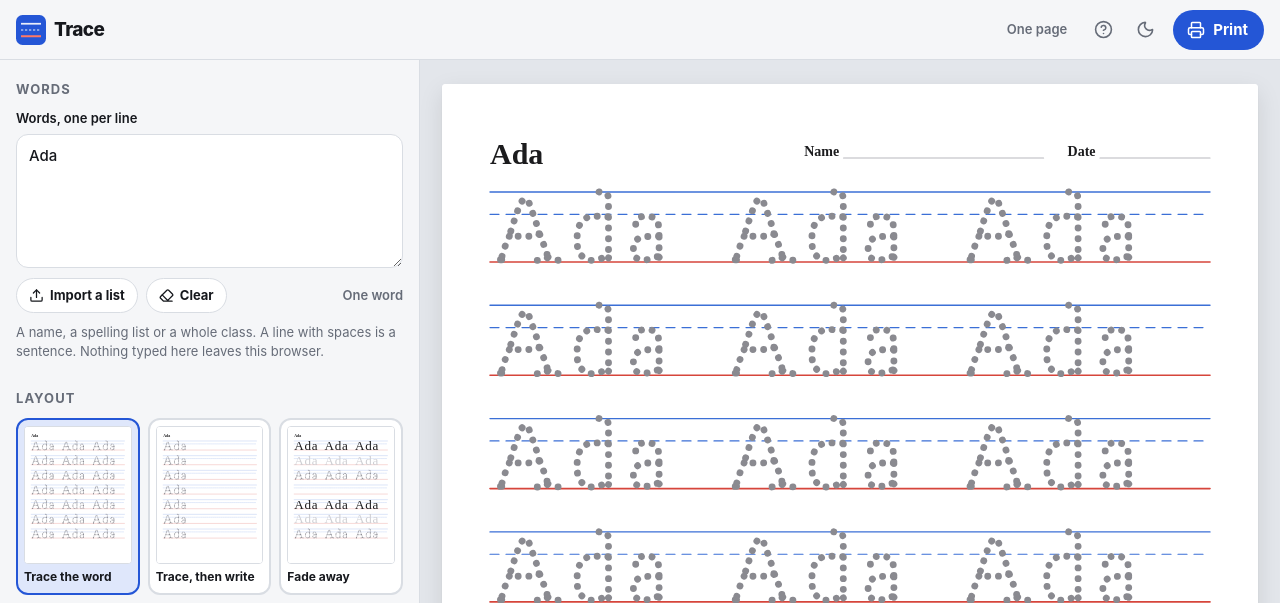
Scenario: help › opens and closes the sheet
Click the button named "How it works" at (1103,30), box [1083,10,1123,50]
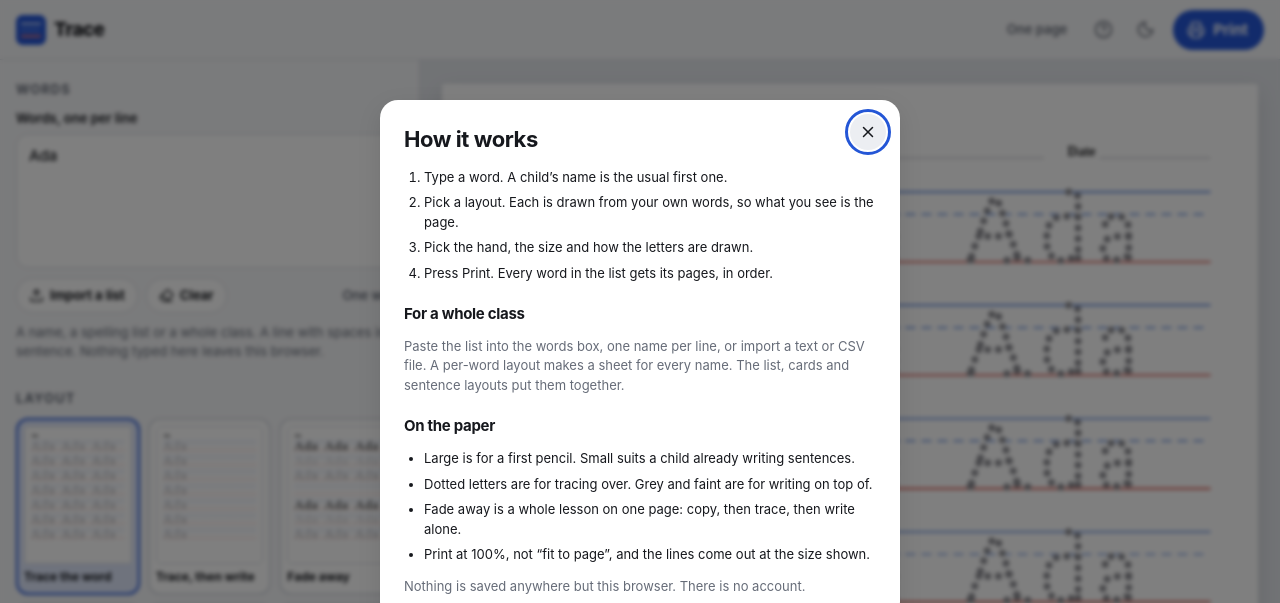
Result: the heading "How it works" is shown at [404,126,538,152]
Click the button named "Close" at (868,132), box [850,114,886,150]
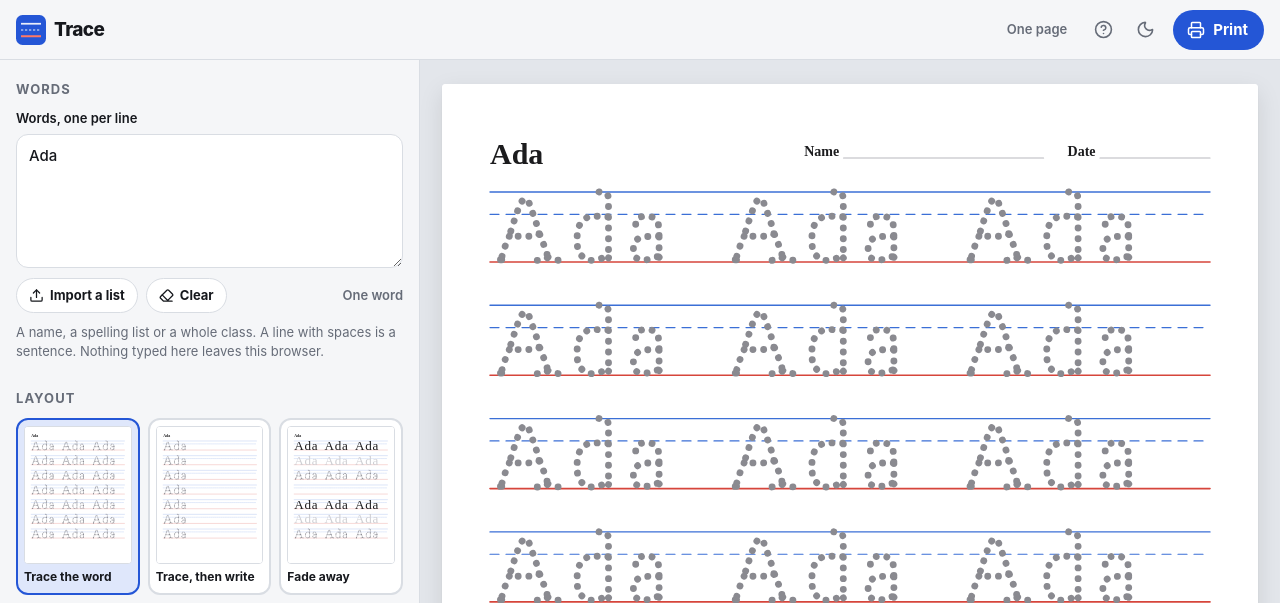
Result: the heading "How it works" is gone
